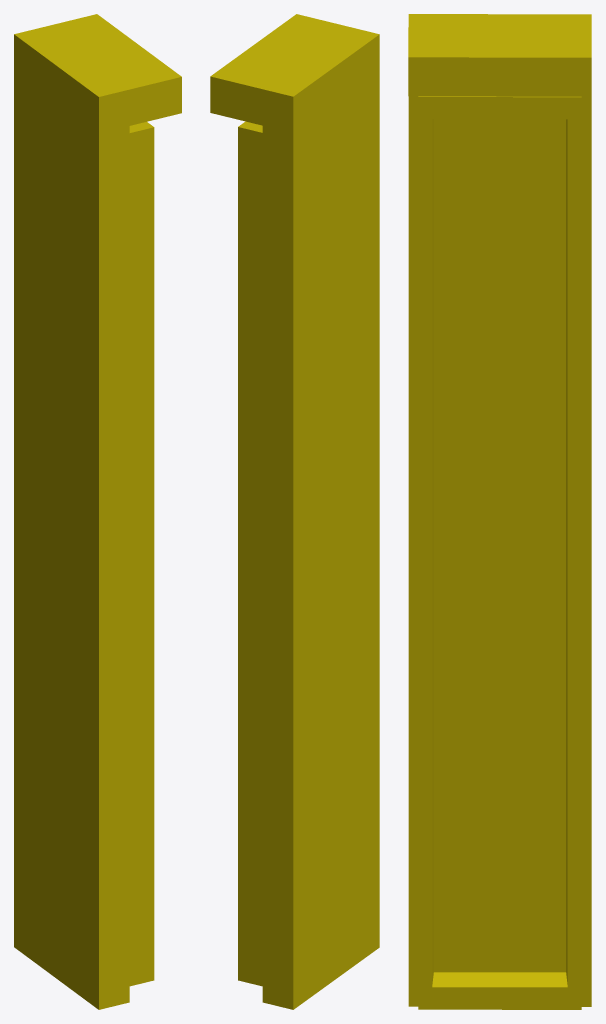
File: Fenster_Lang.fbx
3 renders of one model, left to right at view 1: azimuth 30°, elevation 25°; view 2: azimuth 150°, elevation 25°; view 3: azimuth 270°, elevation 25°, orthographic. The views are drawn at different scales.
Parts seen in each view (by area): view 1: Fenster_Lang:Fenster_Lang; view 2: Fenster_Lang:Fenster_Lang; view 3: Fenster_Lang:Fenster_Lang.
Boxes of the visible parts, x1,y1,x2,y2 form: Fenster_Lang:Fenster_Lang: [14, 14, 181, 1009]; Fenster_Lang:Fenster_Lang: [210, 14, 379, 1009]; Fenster_Lang:Fenster_Lang: [408, 14, 591, 1009].
Size of the model in its own units: 17.2 by 179 by 30.41.
